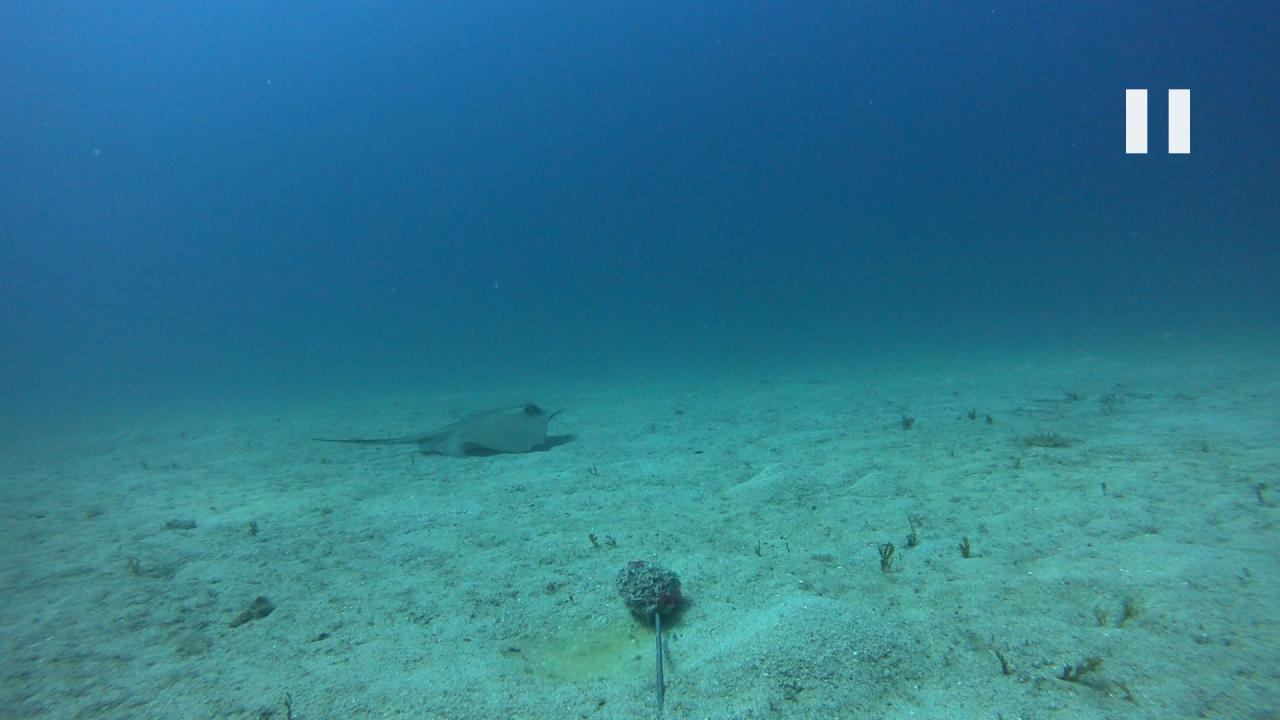dasyatis: (309, 402, 570, 458)
